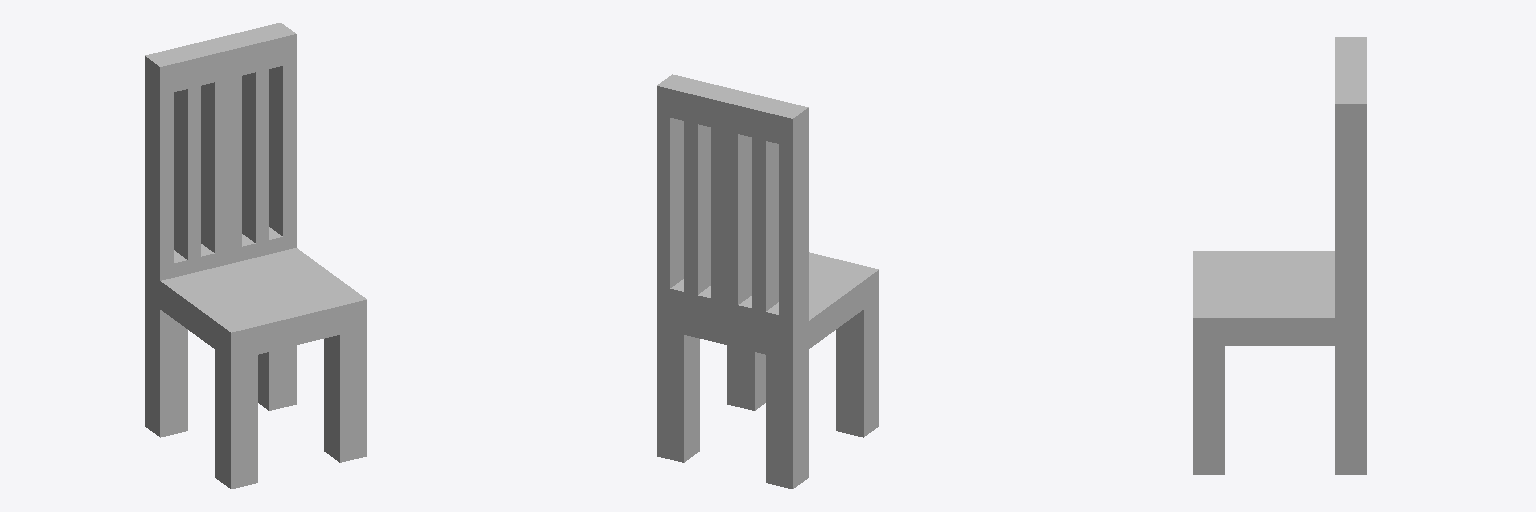
File: chair.obj
The picture shows the model from 3 angles: view 1: azimuth 30°, elevation 25°; view 2: azimuth 150°, elevation 25°; view 3: azimuth 270°, elevation 25°; orthographic projection.
Parts seen in each view (by area): view 1: object 1; view 2: object 1; view 3: object 1.
Part boxes in pixels (x1,y1,x2,y2): object 1: (145,23,366,488); object 1: (657,74,878,488); object 1: (1193,37,1366,474).
Size of the model in its own units: 1 by 2.6 by 1.1.